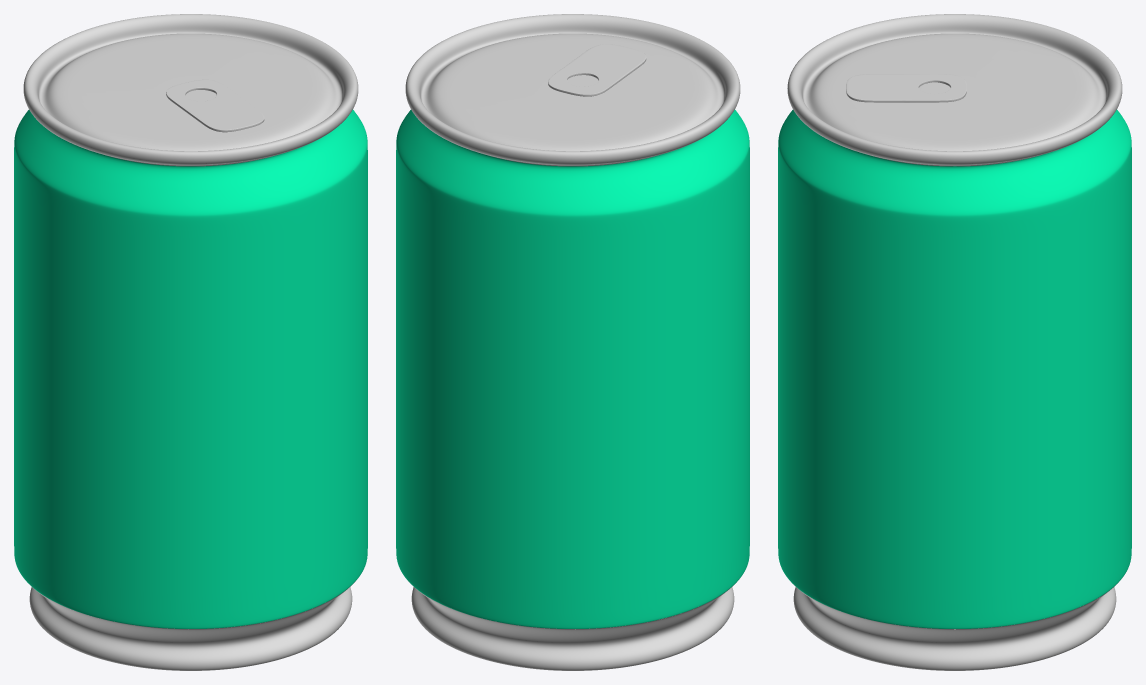
Rendered from can.glb.
3 renders of one model, left to right at view 1: azimuth 30°, elevation 25°; view 2: azimuth 150°, elevation 25°; view 3: azimuth 270°, elevation 25°, orthographic.
Parts seen in each view (by area): view 1: Coke; view 2: Coke; view 3: Coke.
Boxes of the visible parts, x1,y1,x2,y2 form: Coke: [14, 14, 367, 670]; Coke: [396, 14, 749, 670]; Coke: [778, 14, 1131, 670].
Size of the model in its own units: 1.19 by 1.93 by 1.19.
